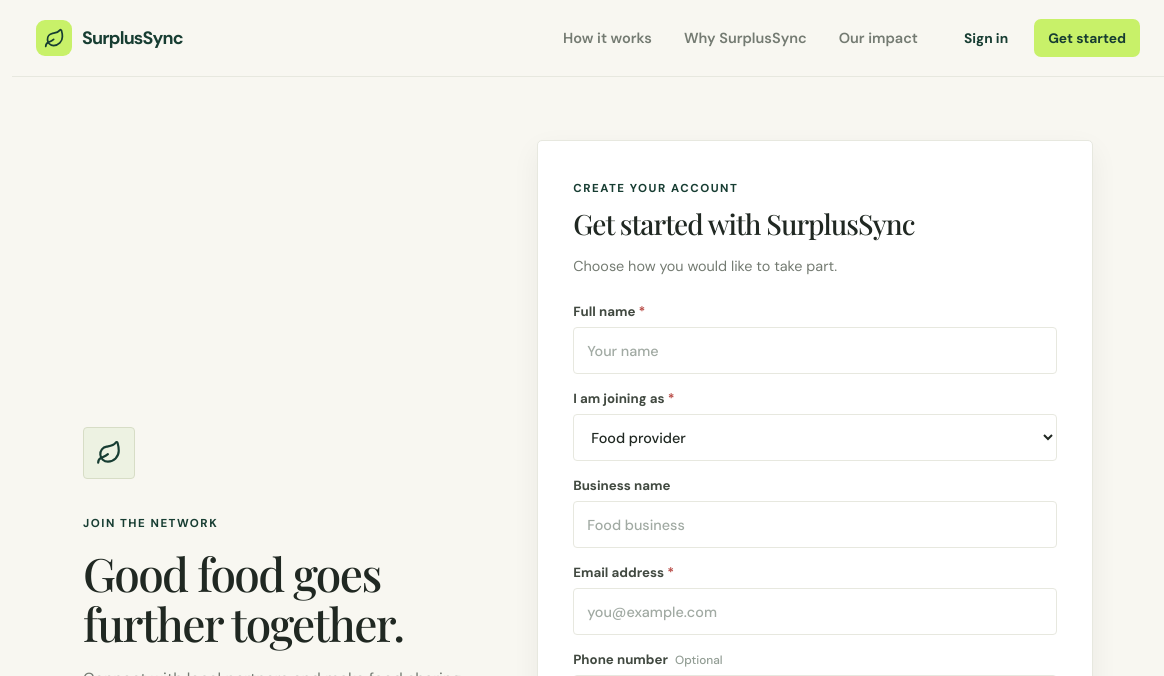
Test: authentication form › submits registration using a public role and routes to the new account dashboard
In the field labelled "Full name *": (815, 350) x1=573 y1=327 x2=1057 y2=374, type "Taylor Volunteer"
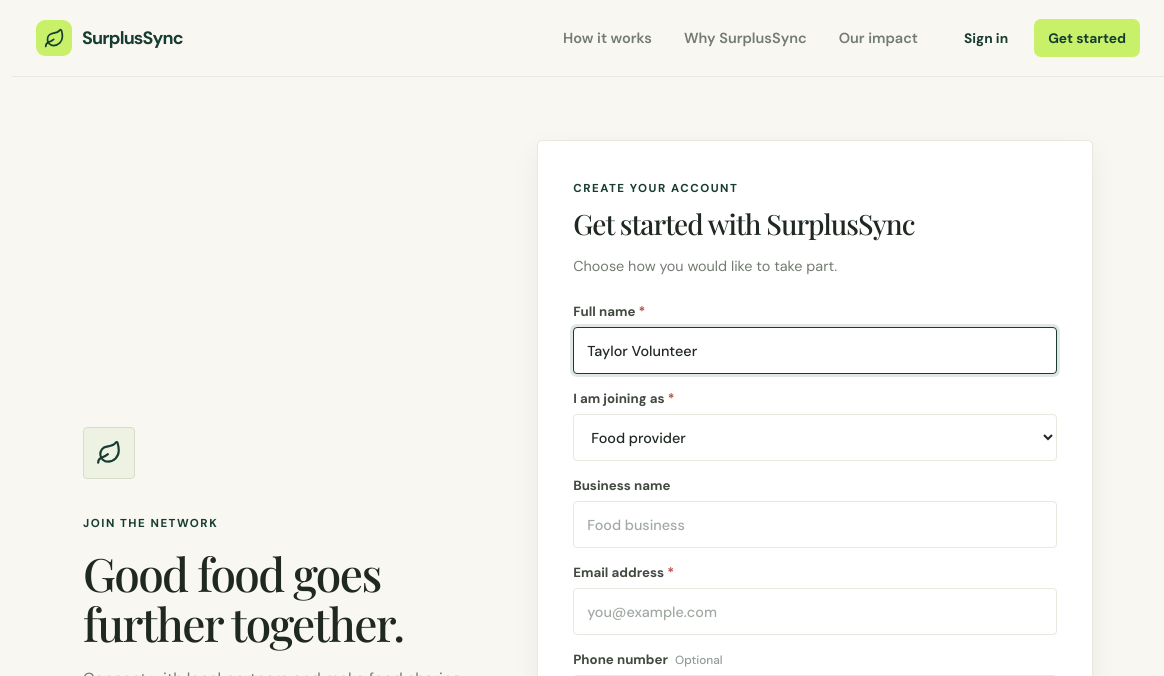
Select "Delivery volunteer" in the dropdown labelled "I am joining as *": (815, 438) x1=573 y1=414 x2=1057 y2=461
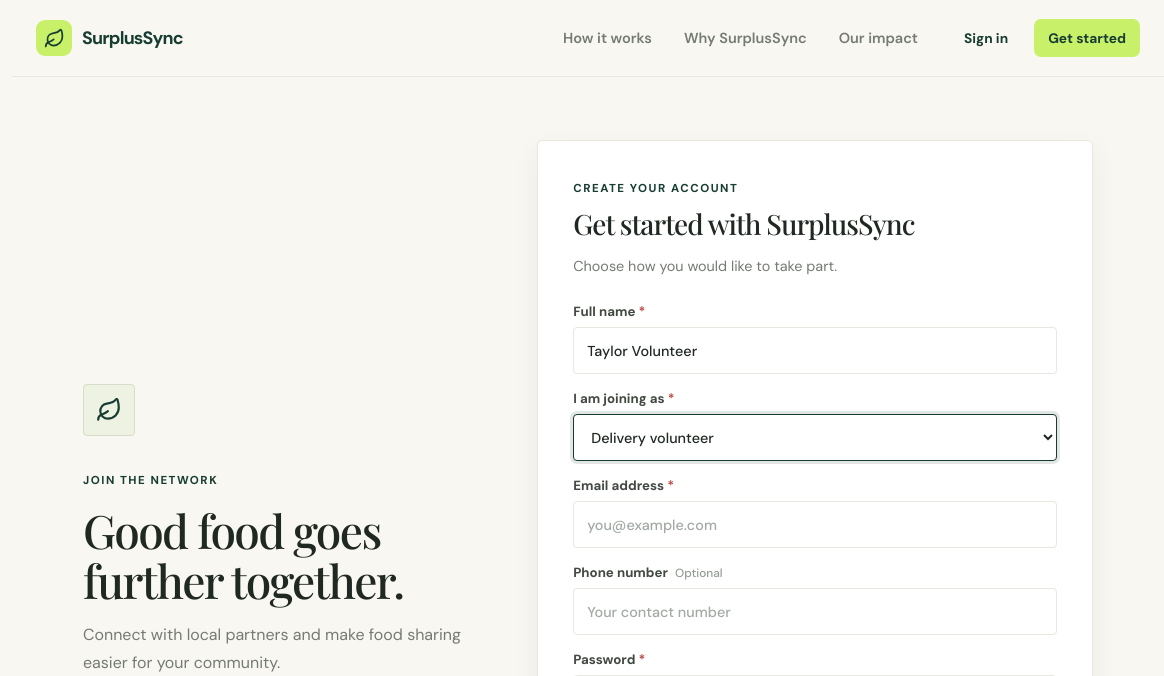
In the field labelled "Email address *": (815, 524) x1=573 y1=501 x2=1057 y2=548, type "taylor@example.test"
(page scrolled)
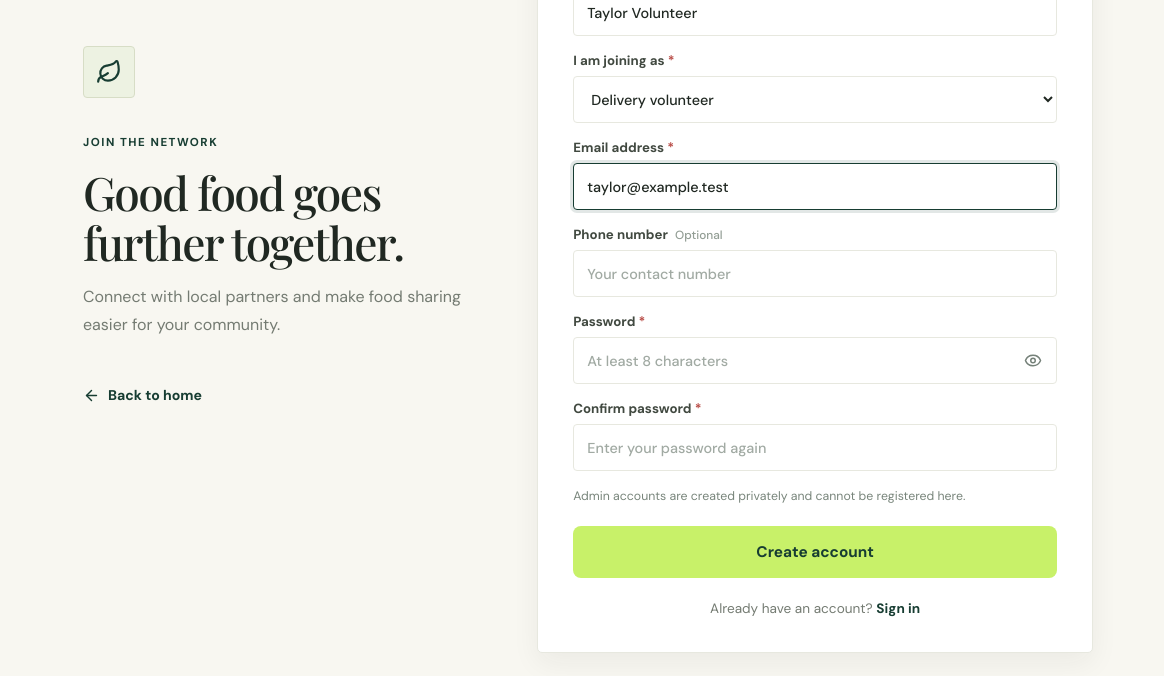
In the password field labelled "Password *": (815, 360) x1=573 y1=337 x2=1057 y2=384, type "Test-password-123!"
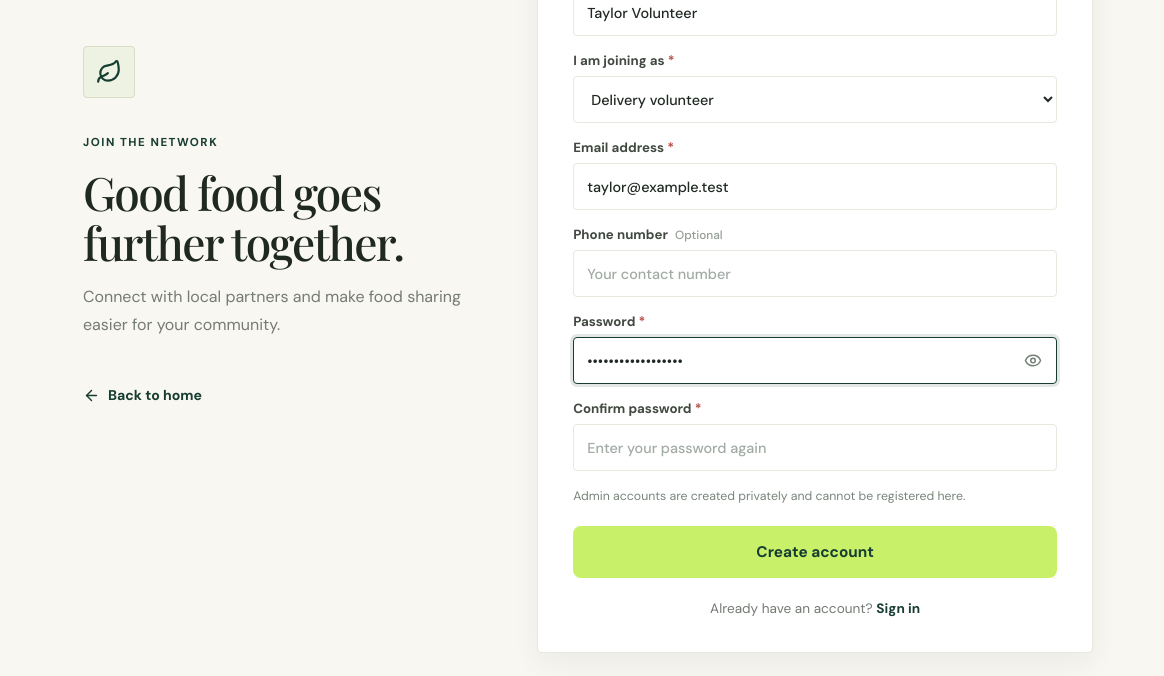
In the password field labelled "Confirm password *": (815, 448) x1=573 y1=424 x2=1057 y2=471, type "Test-password-123!"
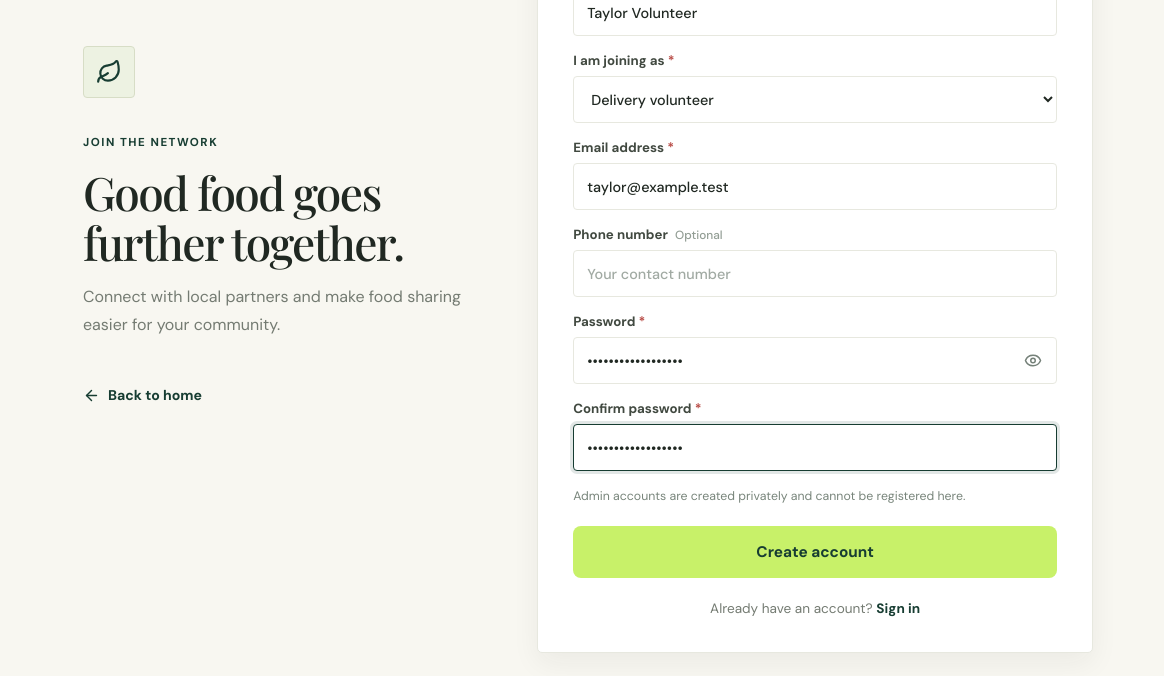
Click the button "Create account": click(815, 552) x1=573 y1=526 x2=1057 y2=578
(page scrolled)
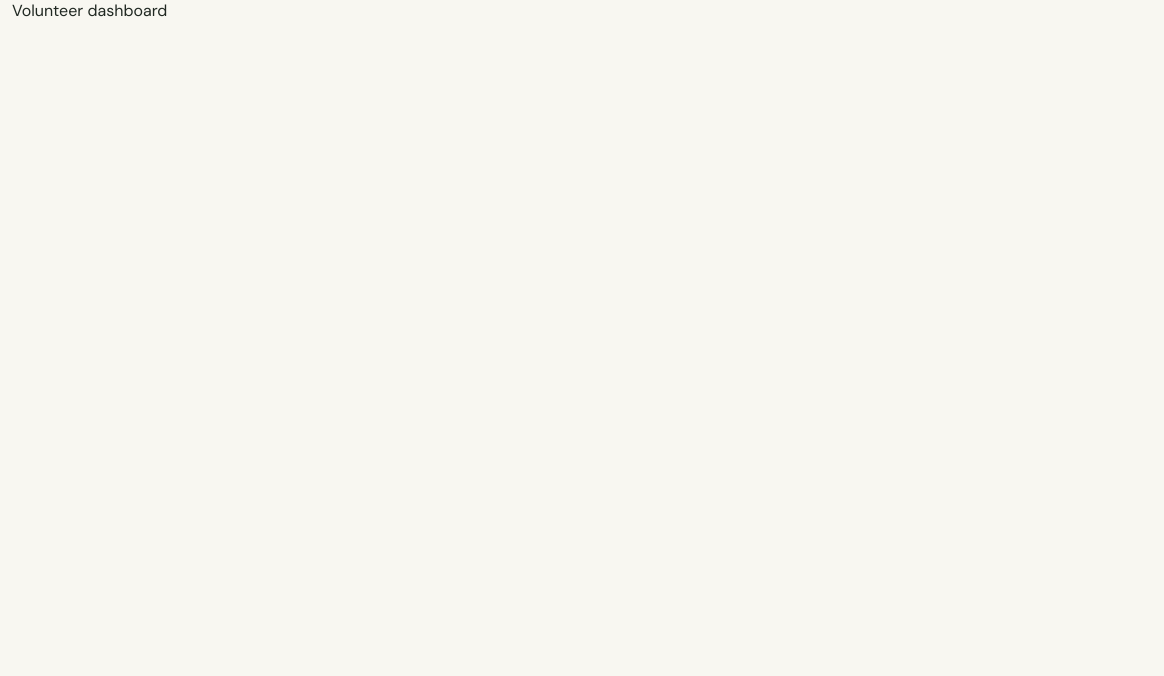
Check: the text "Volunteer dashboard" is shown, box x1=12 y1=0 x2=167 y2=21
